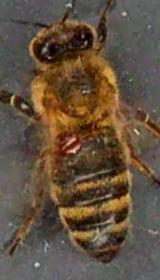varroa_mite: (54, 126, 86, 166)
